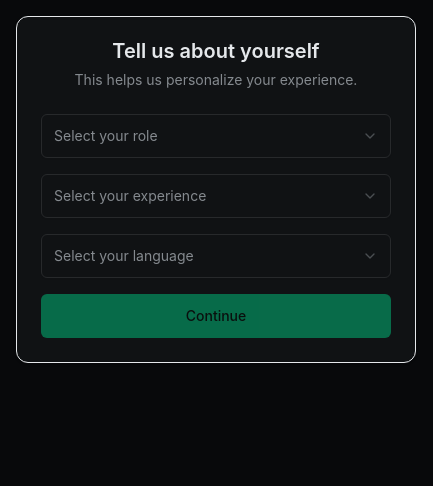
Onboarding › should disable Continue button until all selects have values
Expected: the button "Continue" is disabled, [41, 294, 391, 338]
Press the mouse on the dropdown labelled "your role" at (106, 135), box [41, 114, 391, 158]
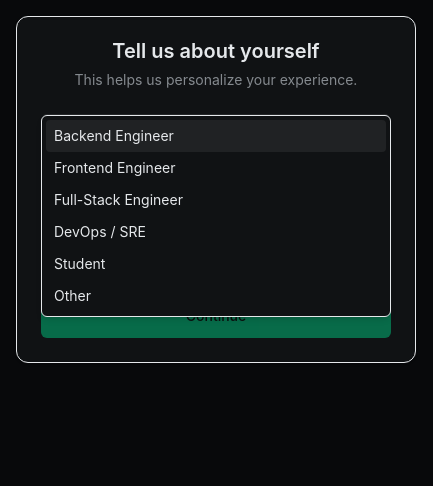
Click the option "Backend Engineer".
click(114, 135)  # box [46, 120, 386, 152]
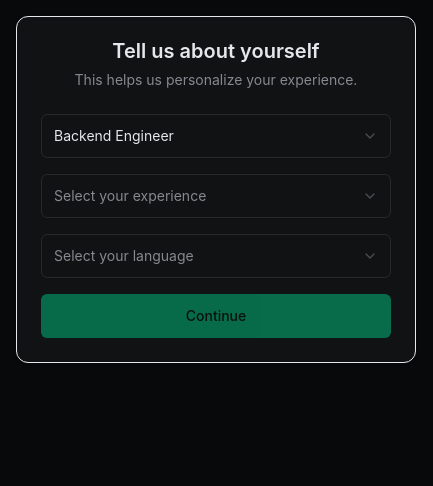
Expected: the button "Continue" is disabled, [41, 294, 391, 338]
Press the mouse on the dropdown named "Your experience level" at (130, 195), box [41, 174, 391, 218]
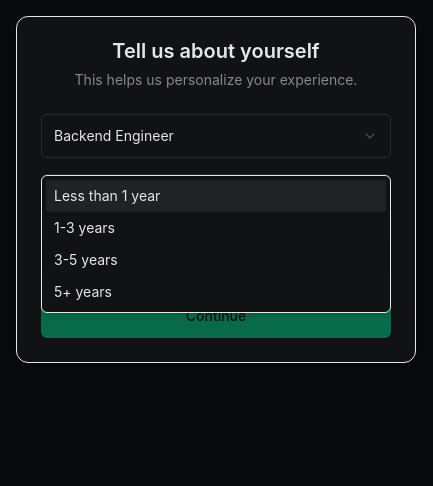
Click the option "1-3 years".
click(84, 227)  # box [54, 218, 115, 236]
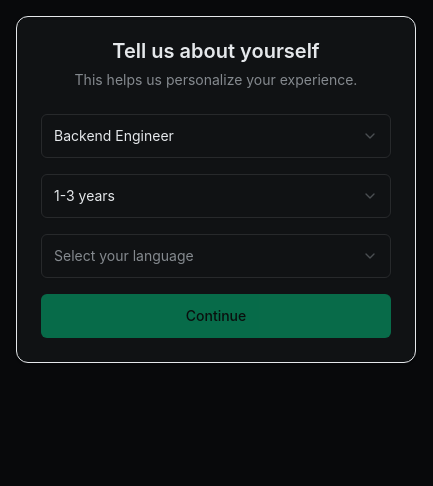
Expected: the button "Continue" is disabled, [41, 294, 391, 338]
Press the mouse on the dropdown named "Your primary programming language" at (124, 255), box [41, 234, 391, 278]
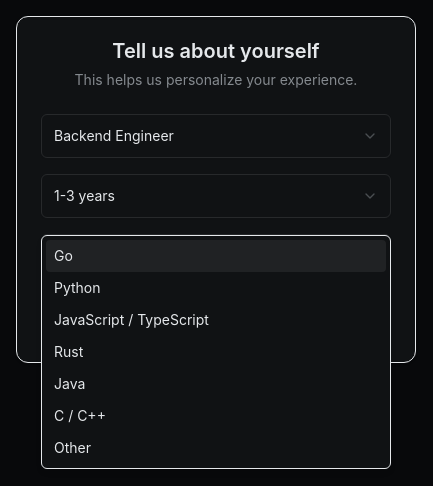
Click the option "Go".
click(63, 255)  # box [46, 240, 386, 272]
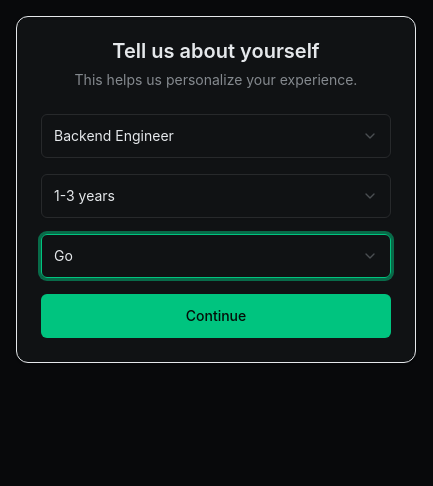
Expected: the button "Continue" is enabled, [41, 294, 391, 338]
